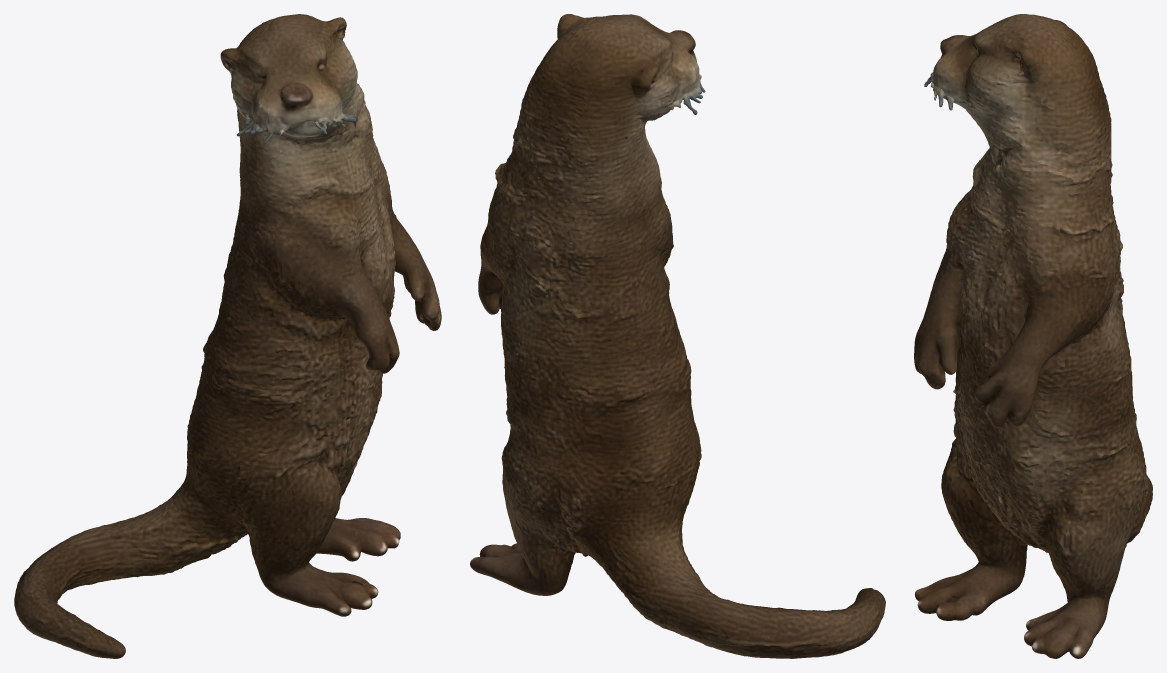
File: eurasian-otter-v21.glb
3 renders of one model, left to right at view 1: azimuth 30°, elevation 25°; view 2: azimuth 150°, elevation 25°; view 3: azimuth 270°, elevation 25°, orthographic. The views are drawn at different scales.
Parts seen in each view (by area): view 1: world; view 2: world; view 3: world.
Boxes of the visible parts, x1,y1,x2,y2 form: world: (14, 14, 441, 658); world: (470, 14, 885, 658); world: (914, 14, 1152, 658).
Size of the model in its own units: 0.8999 by 1.21 by 0.45.
1 material, 1 textured.
